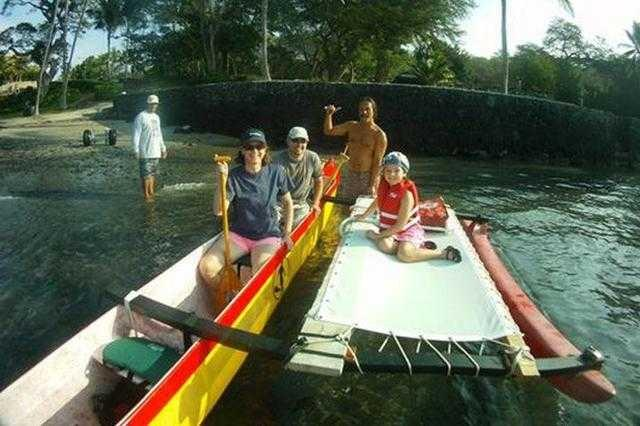kayak: (2, 157, 341, 421), (285, 193, 615, 399)
